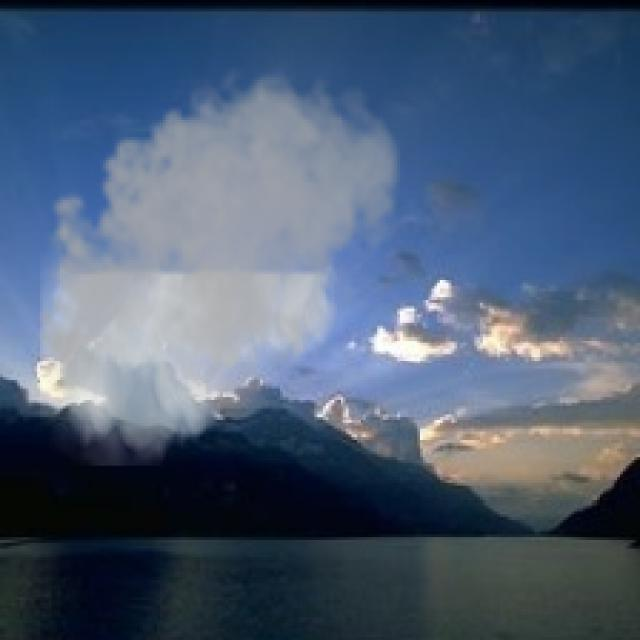Smoke: (26, 57, 408, 466)
